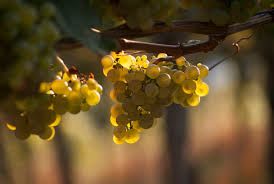grapes: (107, 52, 209, 145), (14, 77, 98, 140)
